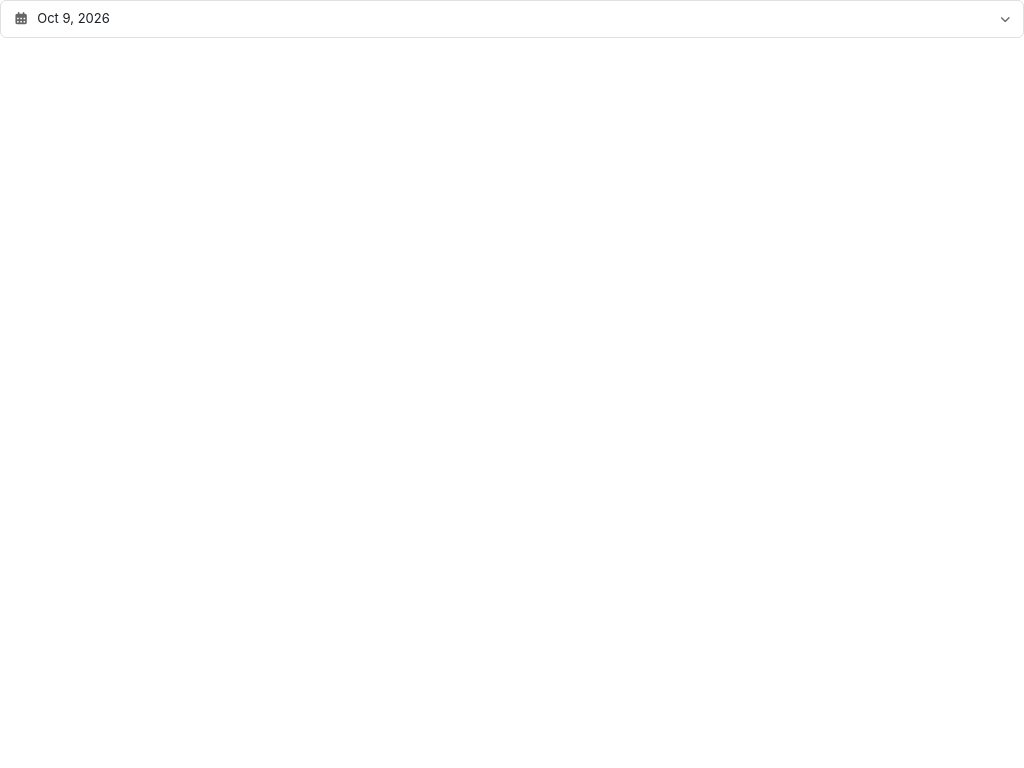
Test: DatePicker › drills from days to months to years through the header
Click the button with class "dp-trigger": (74,18) x1=0 y1=0 x2=1023 y2=38
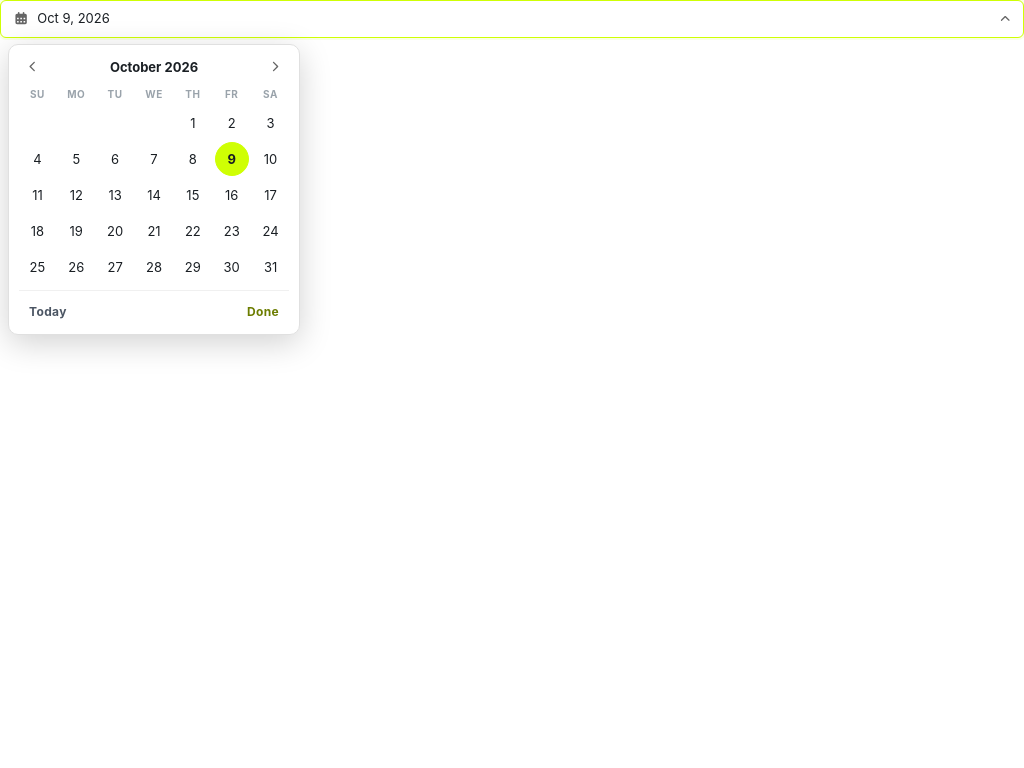
Click the button with aria-label "Choose month": (154,67) x1=51 y1=53 x2=257 y2=81
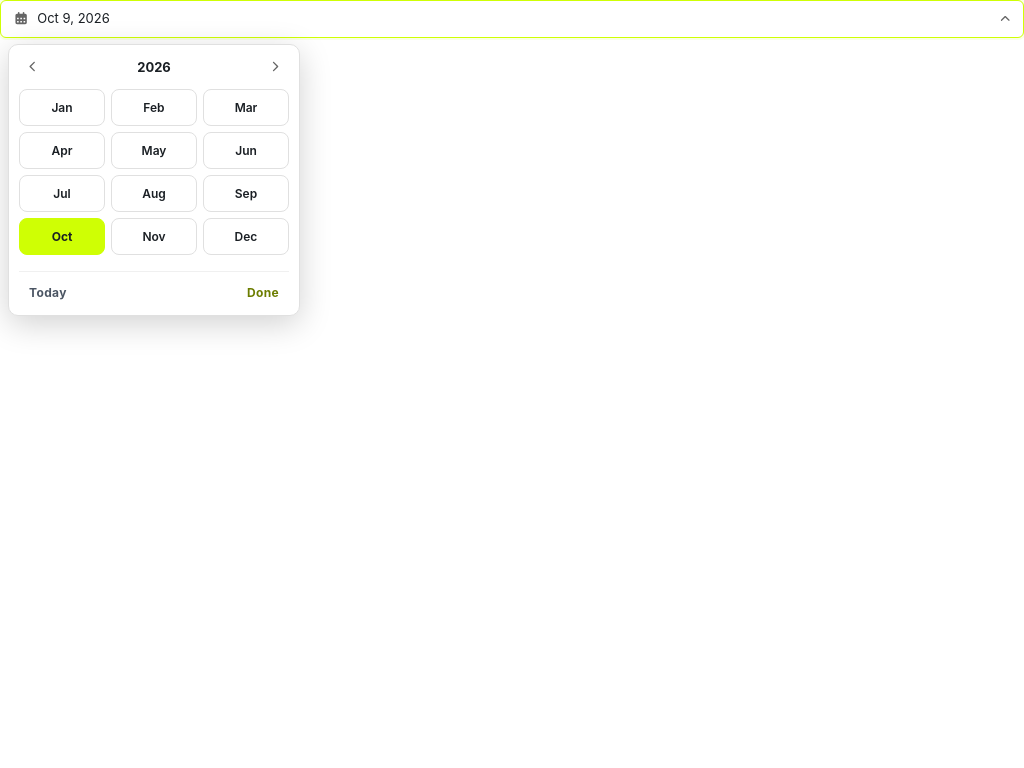
Check: the button "Mar" is shown, box x1=203 y1=89 x2=289 y2=126
Click the button named "Choose year": (154,67) x1=51 y1=53 x2=257 y2=81
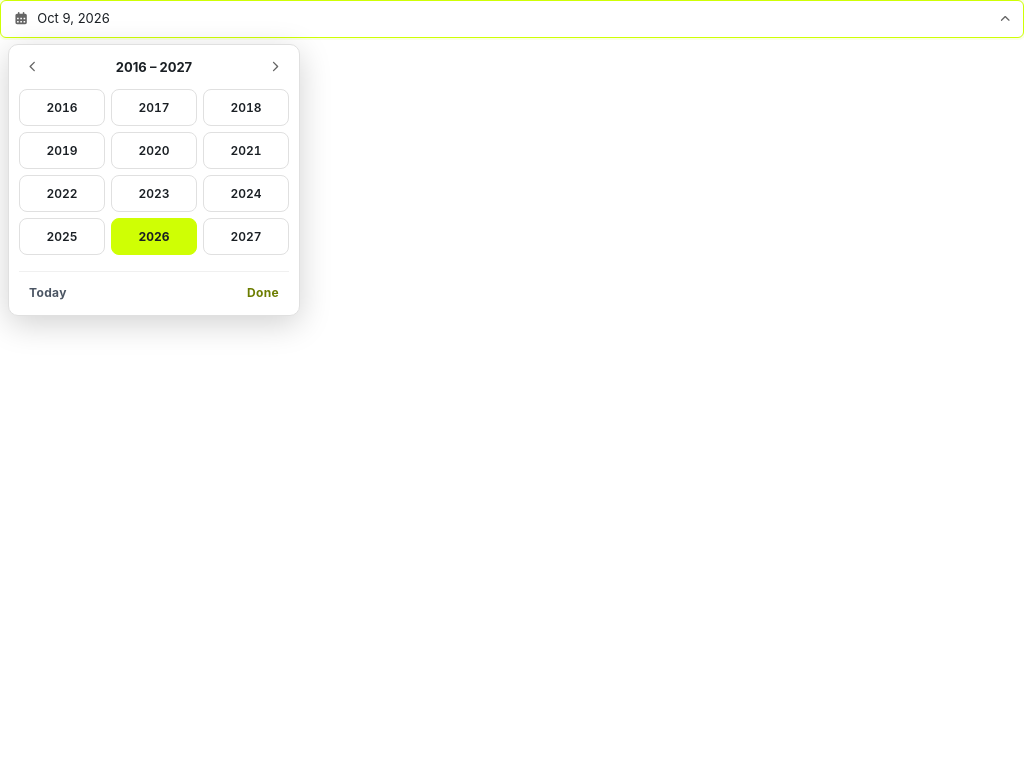
Check: the button "2016" is shown, box x1=19 y1=89 x2=105 y2=126
Check: the button "2027" is shown, box x1=203 y1=218 x2=289 y2=255
Click the button "2021": (246,150) x1=203 y1=132 x2=289 y2=169
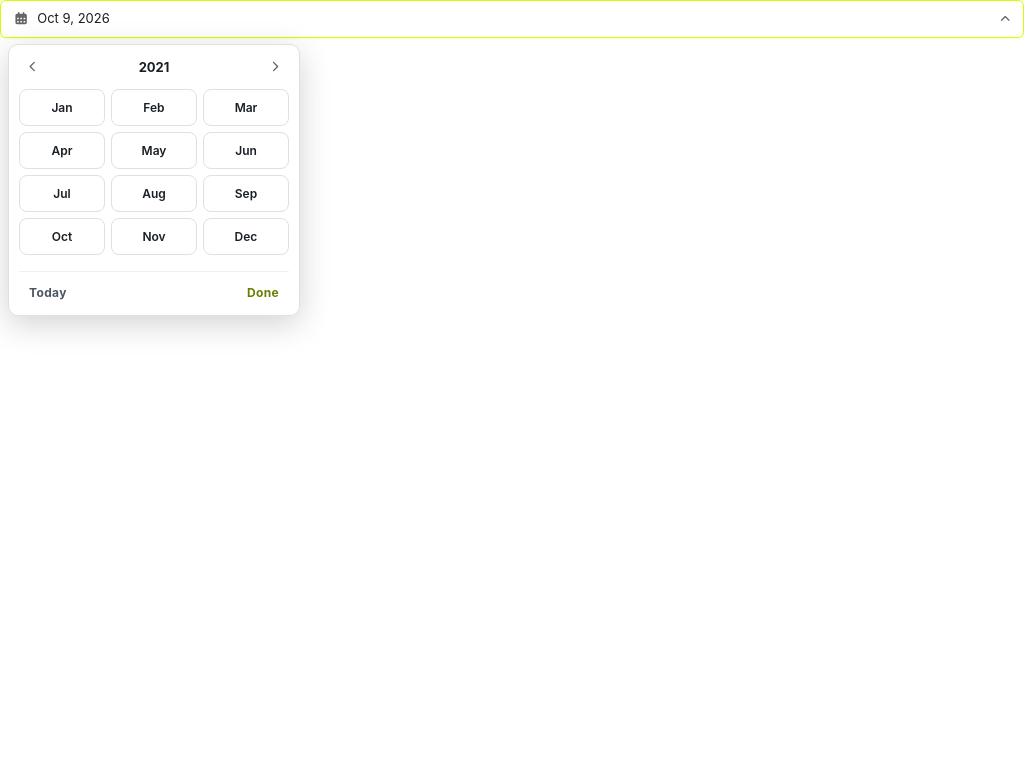
Check: the button named "Choose year" reads "2021", box x1=51 y1=53 x2=257 y2=81
Click the button "Mar": (246,107) x1=203 y1=89 x2=289 y2=126
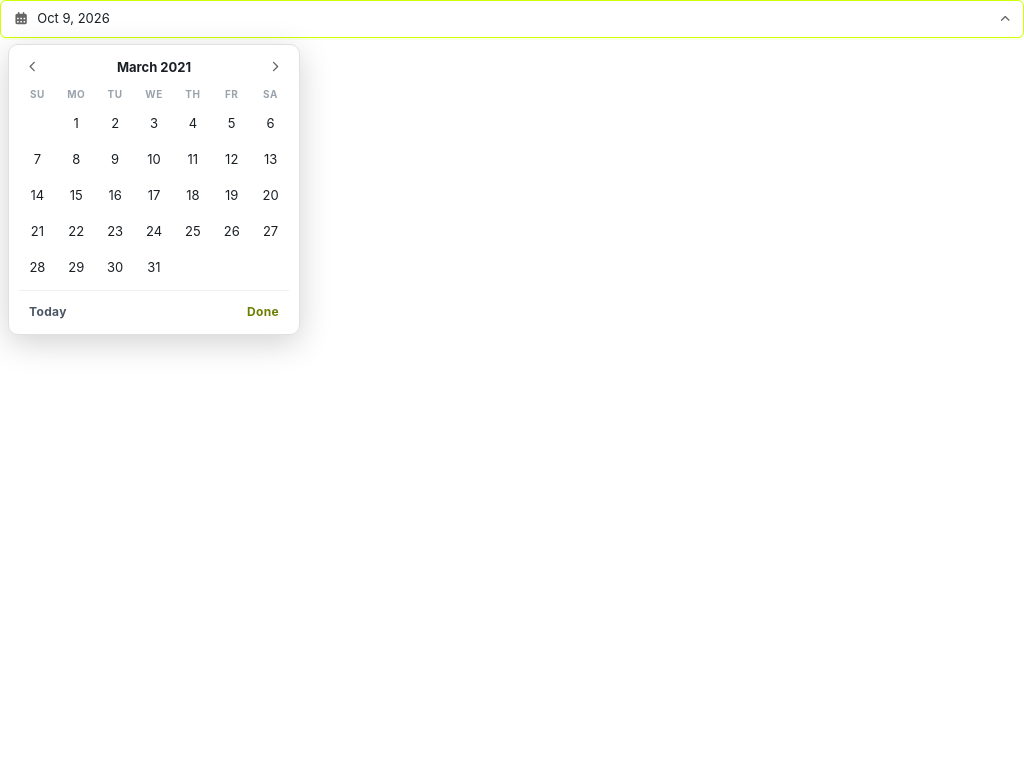
Check: the button with aria-label "Choose month" reads "March 2021", box x1=51 y1=53 x2=257 y2=81
